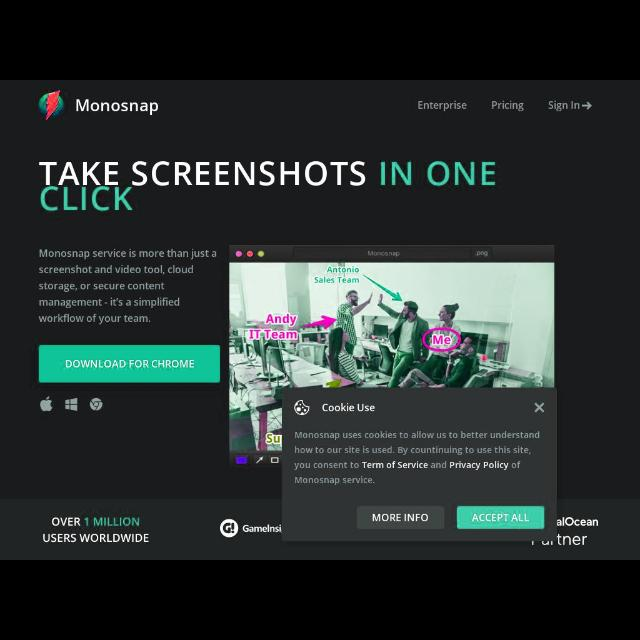icon: (218, 519, 238, 537), (294, 398, 310, 416), (38, 396, 54, 412), (532, 402, 546, 414), (64, 398, 78, 410), (90, 398, 102, 410), (581, 102, 591, 110)
image: (230, 245, 554, 465), (40, 90, 64, 122)
text: (39, 158, 497, 212), (296, 430, 540, 484), (39, 250, 217, 324), (41, 516, 149, 546), (76, 98, 158, 118), (65, 358, 195, 369), (530, 532, 588, 544), (417, 100, 467, 112), (321, 402, 375, 413), (372, 513, 430, 523), (471, 513, 529, 523), (556, 517, 598, 527), (242, 524, 282, 534), (491, 100, 524, 112), (547, 100, 579, 112)
textbutton: (40, 346, 220, 382), (457, 507, 545, 529), (358, 507, 444, 529)
